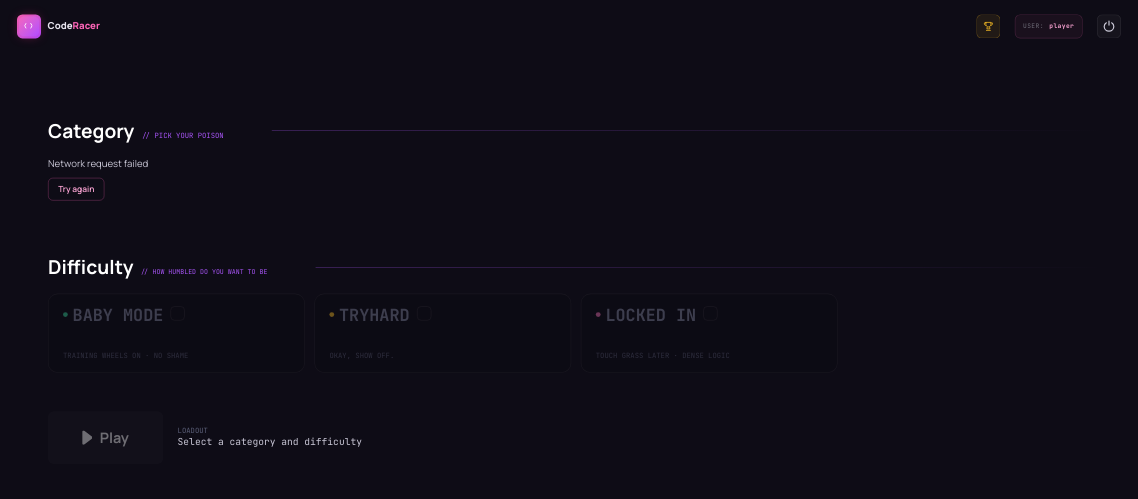
SoloSetupPage › shows an error with a retry that refetches categories
Click the button "Try again" at (76, 189), box [48,178,104,201]
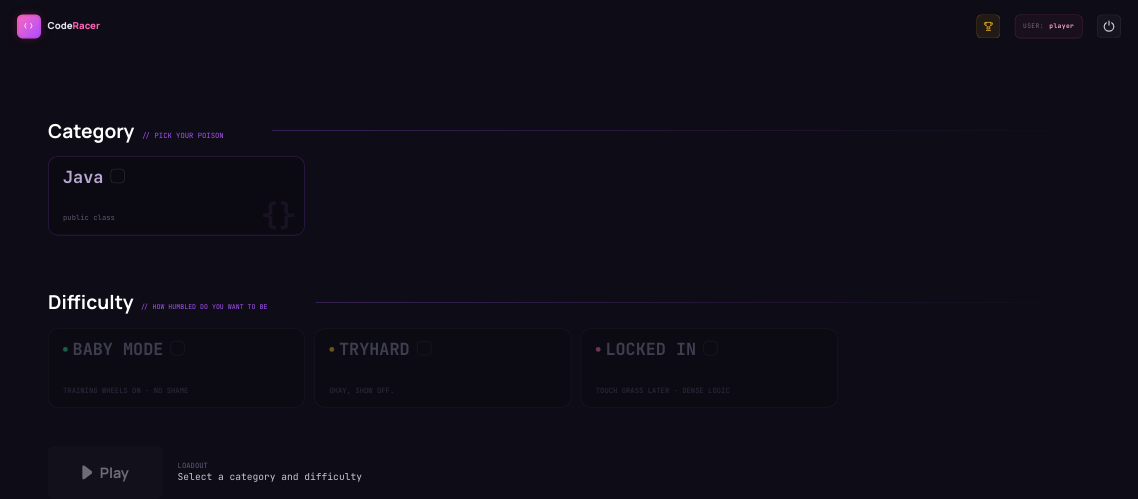
Now the button "Java public class" is shown, box [48,156,305,235]
